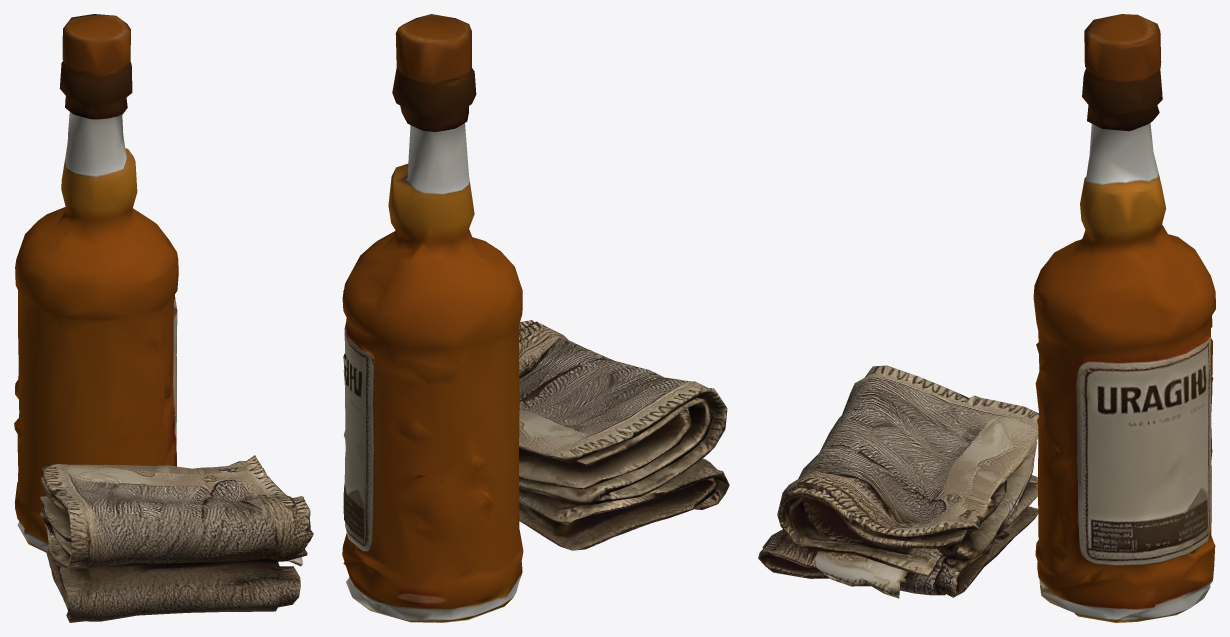
The model's file is craft.glb.
3 renders of one model, left to right at view 1: azimuth 30°, elevation 25°; view 2: azimuth 150°, elevation 25°; view 3: azimuth 270°, elevation 25°, orthographic. The views are drawn at different scales.
Visible parts, largest first — view 1: tripo_node_5102166b-c651-4857-82ed-9b84112f5327; view 2: tripo_node_5102166b-c651-4857-82ed-9b84112f5327; view 3: tripo_node_5102166b-c651-4857-82ed-9b84112f5327.
Boxes of the visible parts, x1=… form: tripo_node_5102166b-c651-4857-82ed-9b84112f5327: x1=14, y1=14, x2=313, y2=622; tripo_node_5102166b-c651-4857-82ed-9b84112f5327: x1=342, y1=14, x2=729, y2=622; tripo_node_5102166b-c651-4857-82ed-9b84112f5327: x1=758, y1=14, x2=1215, y2=622.
Bounding box in the file's own units: 0.143 × 0.28 × 0.2073.
1 material, 1 textured.
